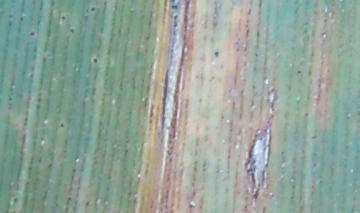tarspot: (258, 205, 269, 213), (59, 13, 68, 22), (212, 50, 220, 59), (46, 161, 54, 169), (257, 1, 264, 10), (92, 56, 99, 64), (59, 121, 66, 129), (68, 26, 75, 34), (89, 6, 97, 13), (28, 30, 36, 37), (6, 19, 14, 26), (170, 4, 179, 10), (18, 15, 25, 22), (7, 12, 14, 19), (303, 111, 310, 118), (295, 68, 303, 74), (349, 206, 355, 213)
